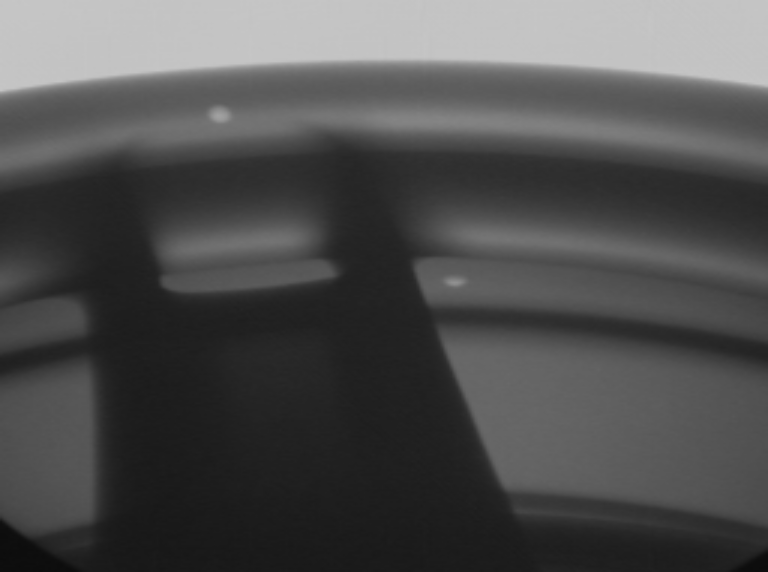defect: (204, 98, 249, 127)
